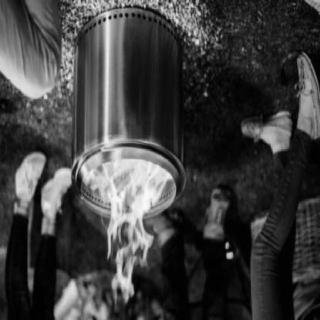Fire: (74, 155, 176, 313)
